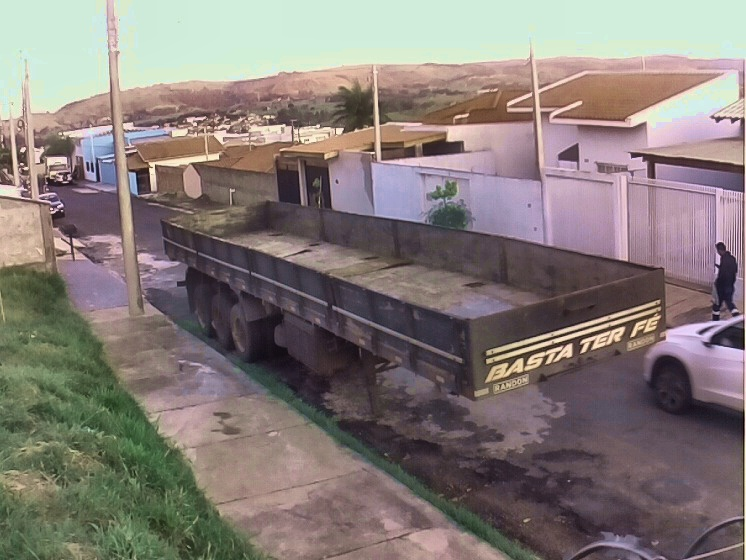person: (712, 241, 741, 323)
